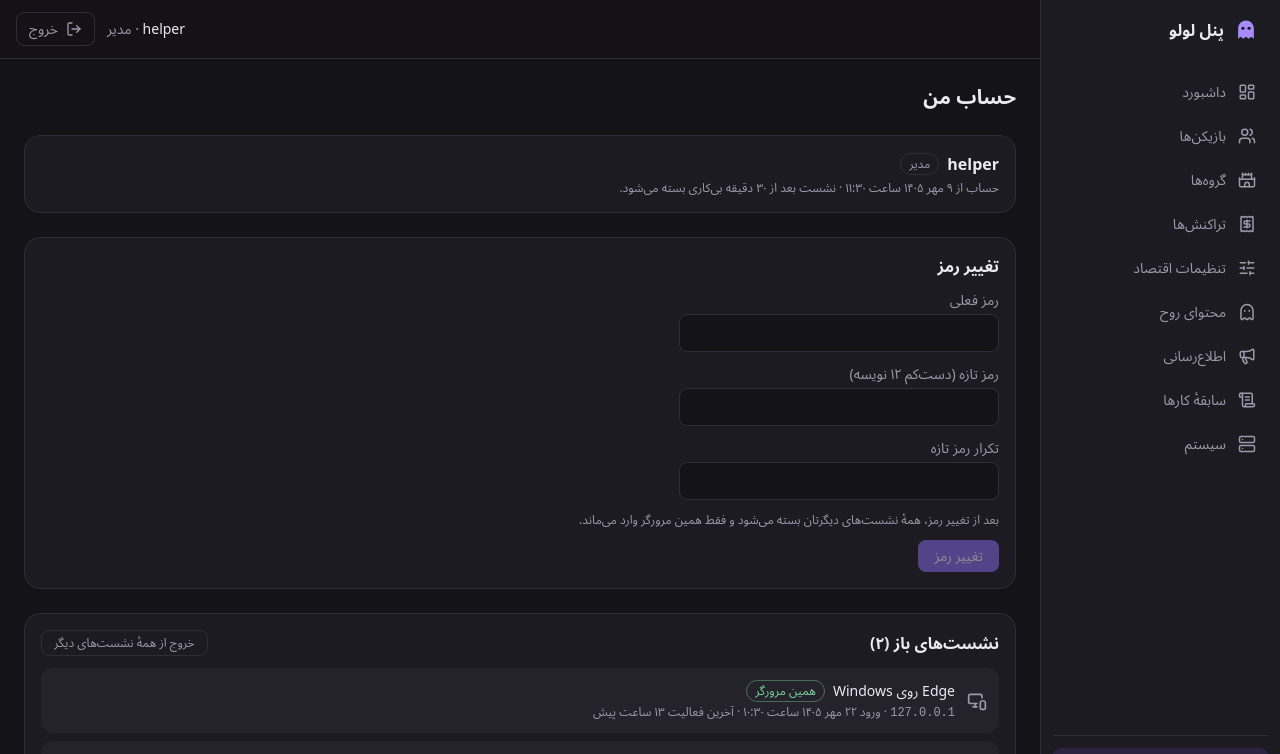
my account page › changes the password only when the new one is long enough and repeated
Type "old one" into the password field labelled "رمز فعلی".
click(839, 333); type("old one")  # box [679, 314, 999, 352]
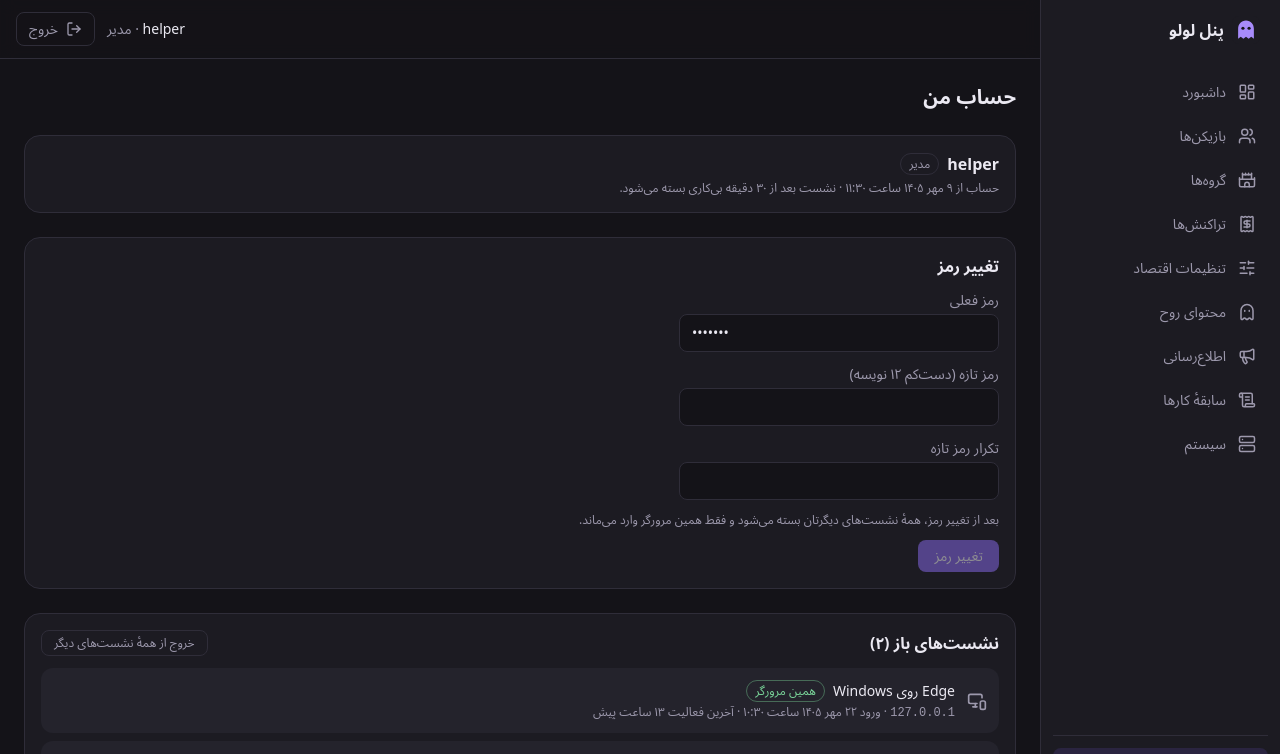
Type "short" into the password field labelled "رمز تازه (دست‌کم ۱۲ نویسه)".
click(839, 407); type("short")  # box [679, 388, 999, 426]
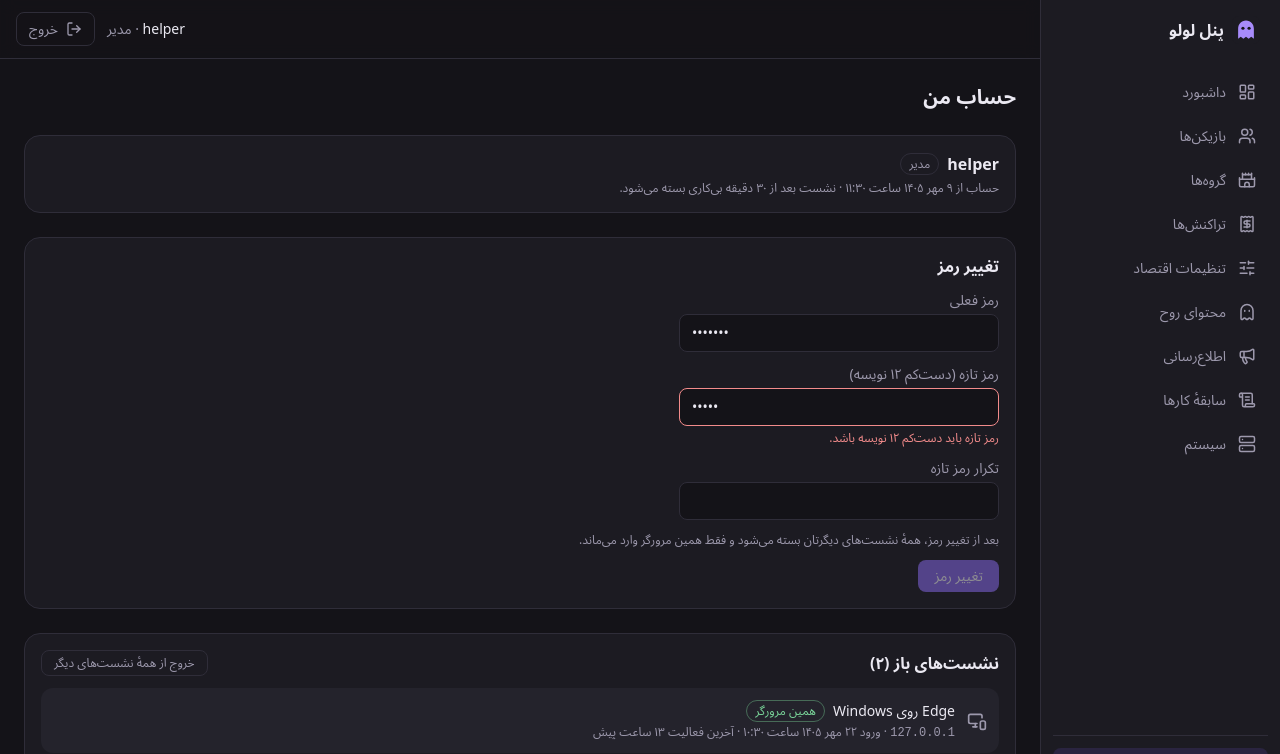
Result: the text "رمز تازه باید دست‌کم ۱۲ نویسه باشد." is shown at [829, 429, 999, 446]
Type "long enough passphrase" into the password field labelled "رمز تازه (دست‌کم ۱۲ نویسه)".
click(839, 407); type("long enough passphrase")  # box [679, 388, 999, 426]
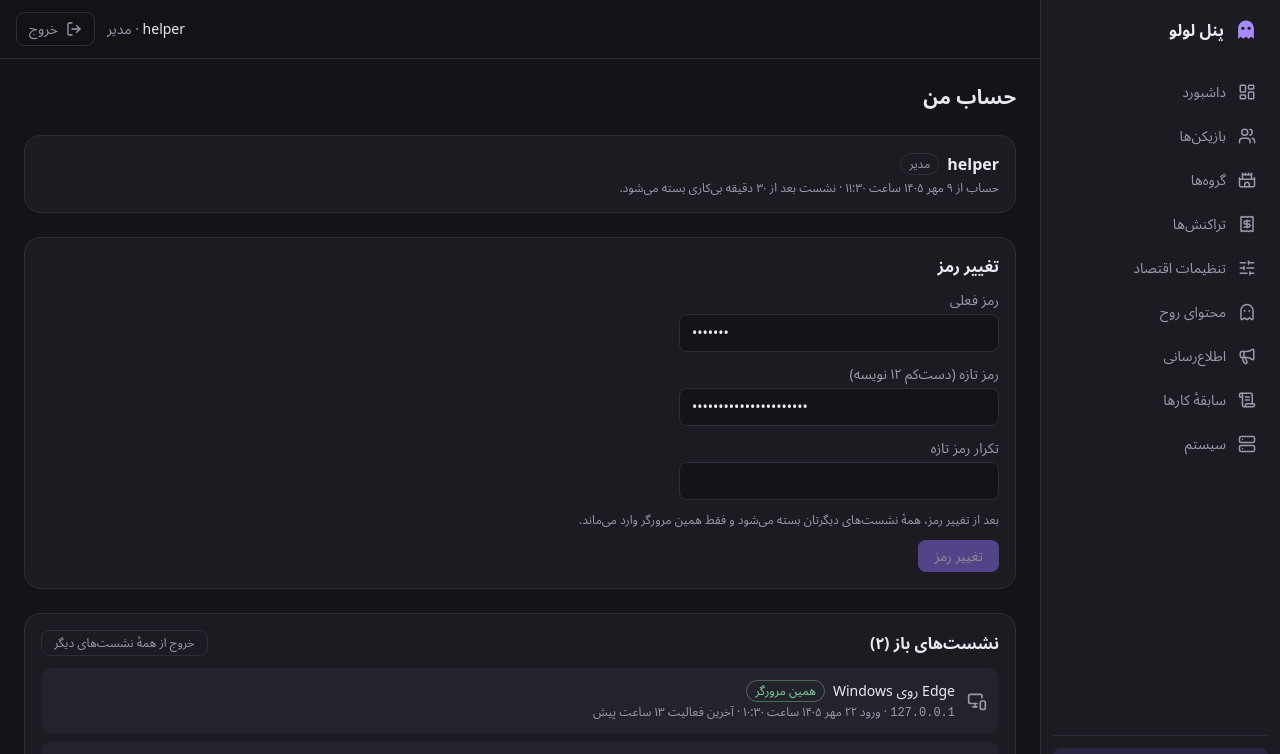
Type "different" into the password field labelled "تکرار رمز تازه".
click(839, 481); type("different")  # box [679, 462, 999, 500]
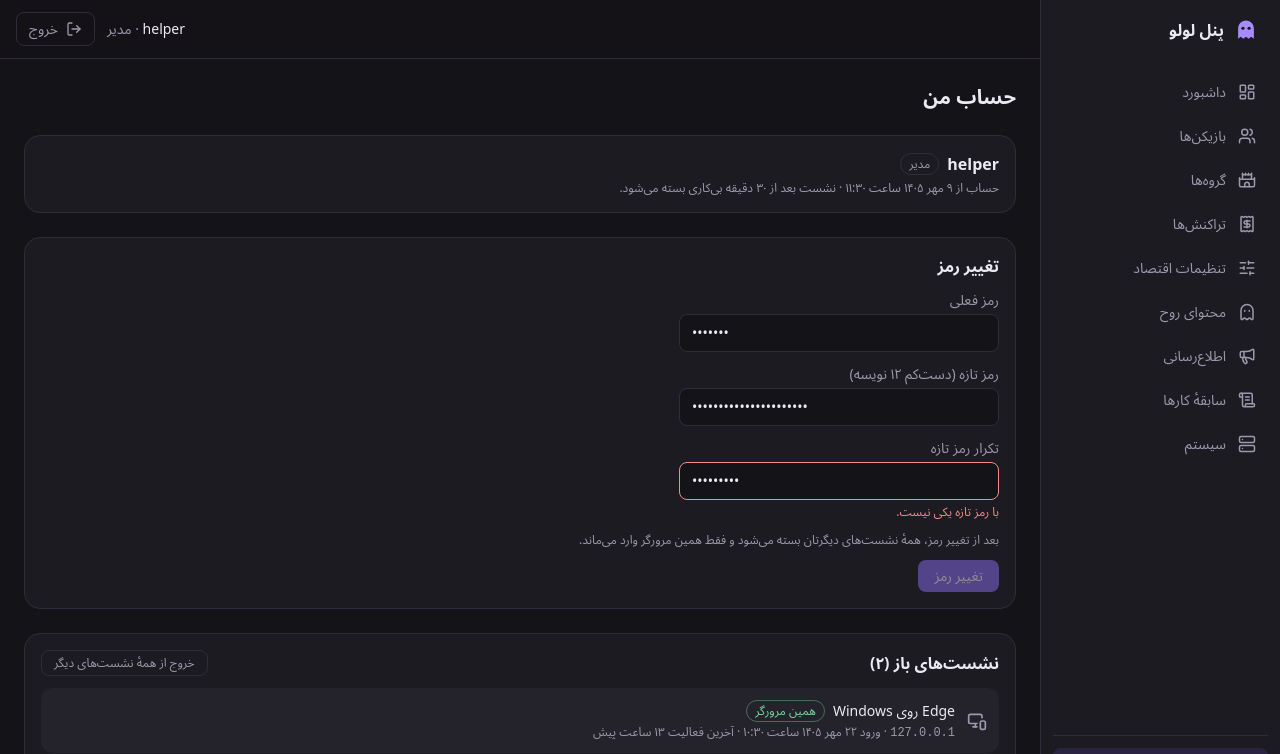
Expected: the button "تغییر رمز" is disabled, [918, 560, 999, 592]
Result: the text "با رمز تازه یکی نیست." is shown at [896, 503, 999, 520]
Type "long enough passphrase" into the password field labelled "تکرار رمز تازه".
click(839, 481); type("long enough passphrase")  # box [679, 462, 999, 500]
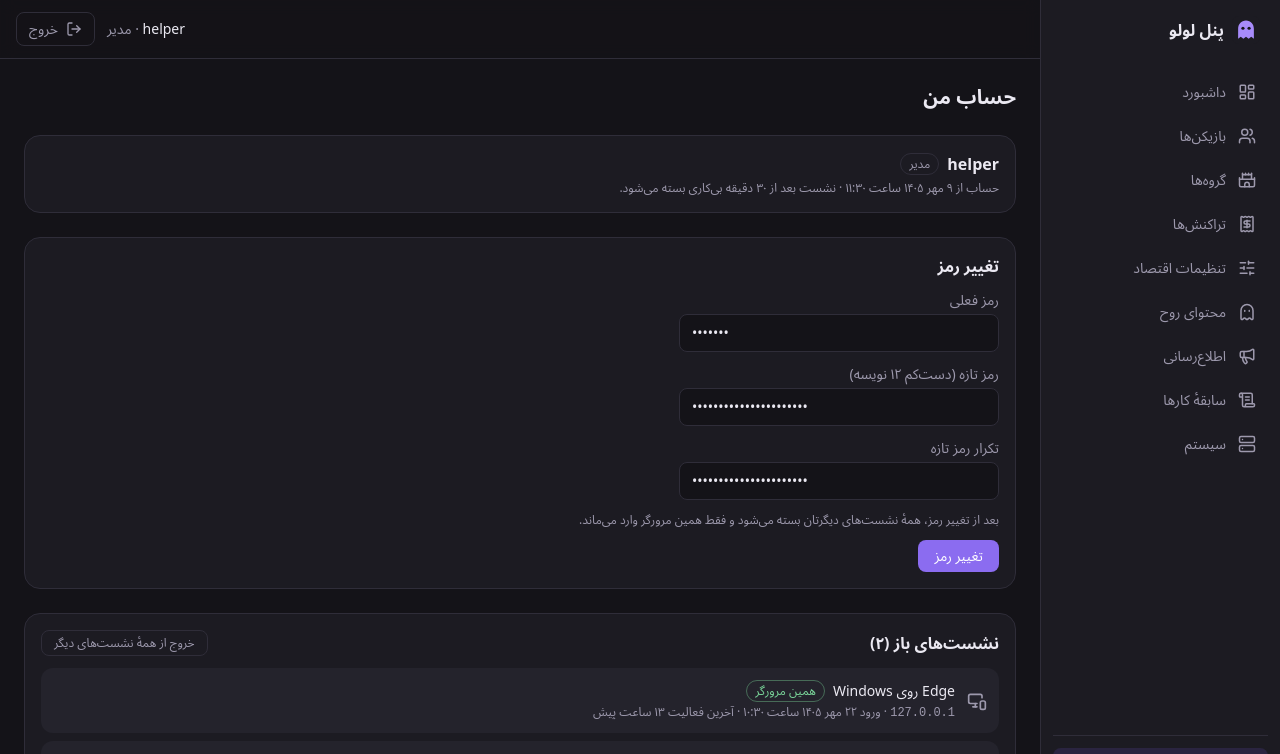
Click the button "تغییر رمز".
click(959, 556)  # box [918, 540, 999, 572]
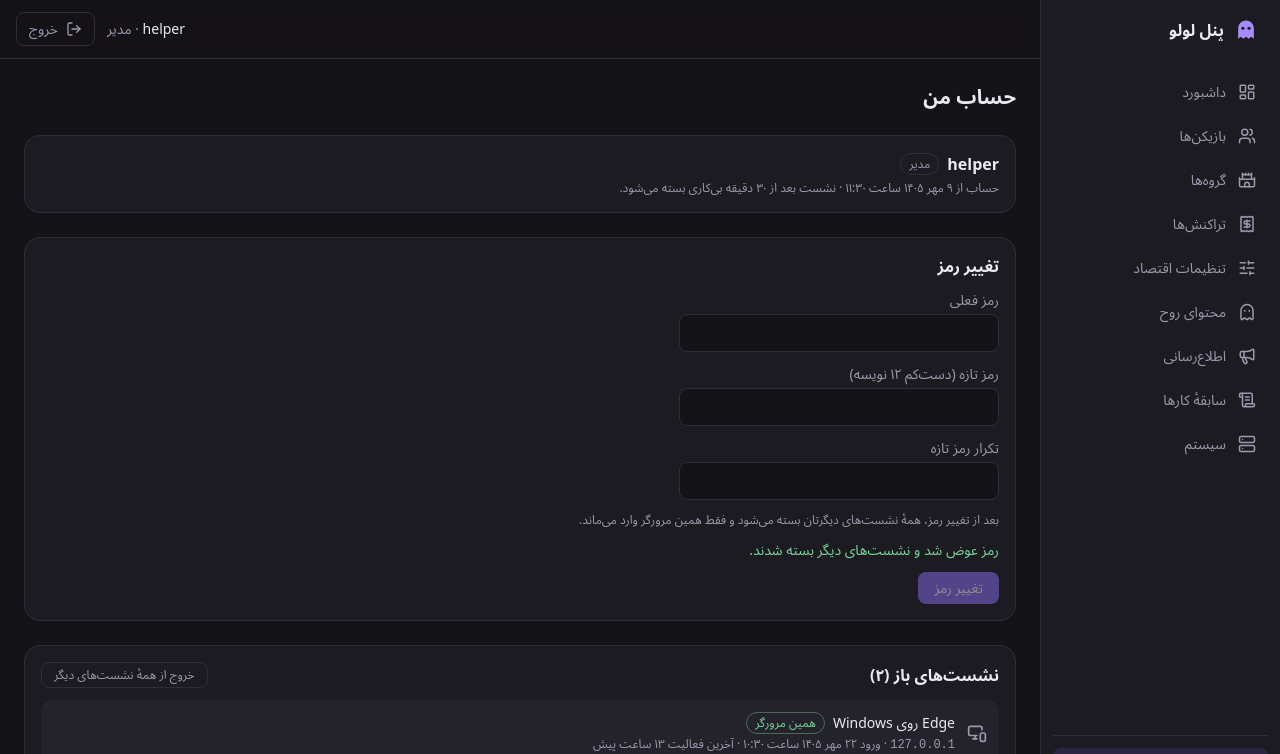
Result: the text "رمز عوض شد و نشست‌های دیگر بسته شدند." is shown at [749, 540, 999, 559]
